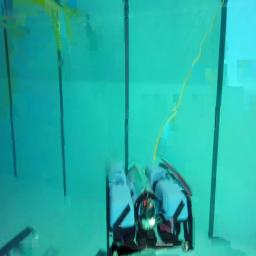front: (104, 155, 193, 256)
